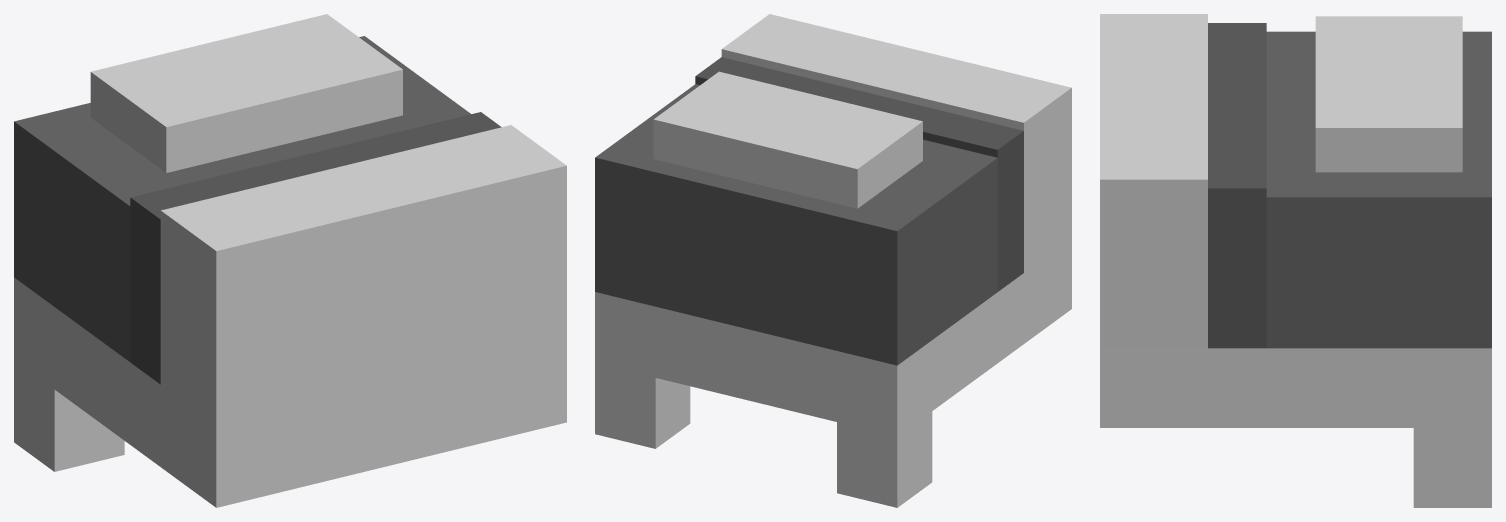
File: bedpillow.obj
3 renders of one model, left to right at view 1: azimuth 30°, elevation 25°; view 2: azimuth 150°, elevation 25°; view 3: azimuth 270°, elevation 25°, orthographic. The views are drawn at different scales.
Visible parts, largest first — view 1: bedpillow; view 2: bedpillow; view 3: bedpillow.
Part boxes in pixels (bbox=[...]): bedpillow: bbox=[14, 14, 566, 507]; bedpillow: bbox=[595, 14, 1071, 507]; bedpillow: bbox=[1100, 14, 1491, 507].
Bounding box in the file's own units: 40 × 40 × 40.
1 material, 1 textured.
